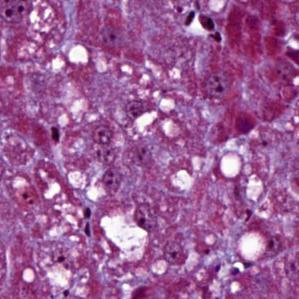inflammation: (179, 9, 226, 49), (76, 205, 97, 241)
